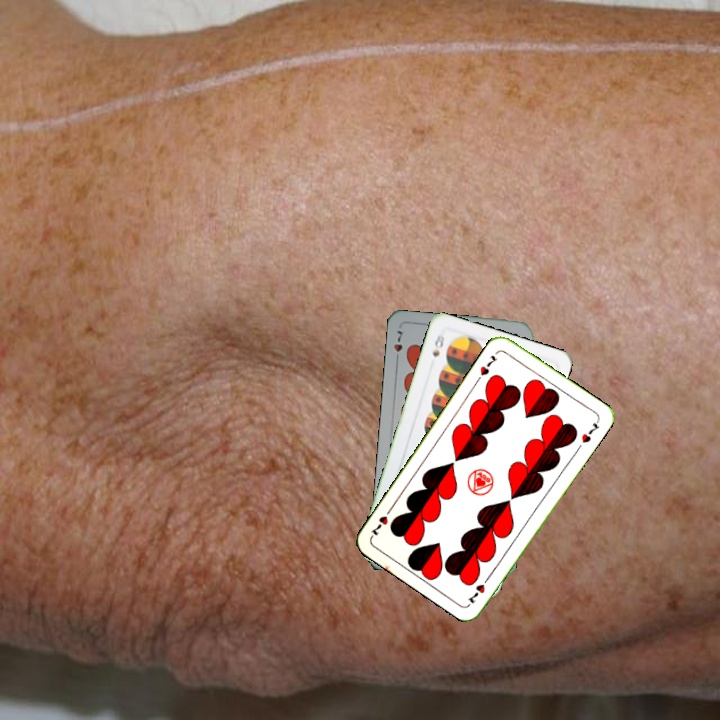H7: (464, 571, 493, 606), (473, 351, 500, 384), (390, 327, 405, 365)
S8: (428, 330, 447, 359)
